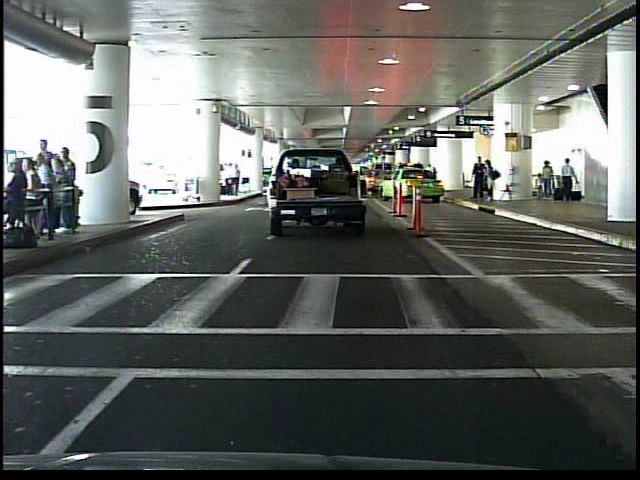person: (470, 154, 487, 206), (483, 158, 499, 205)
